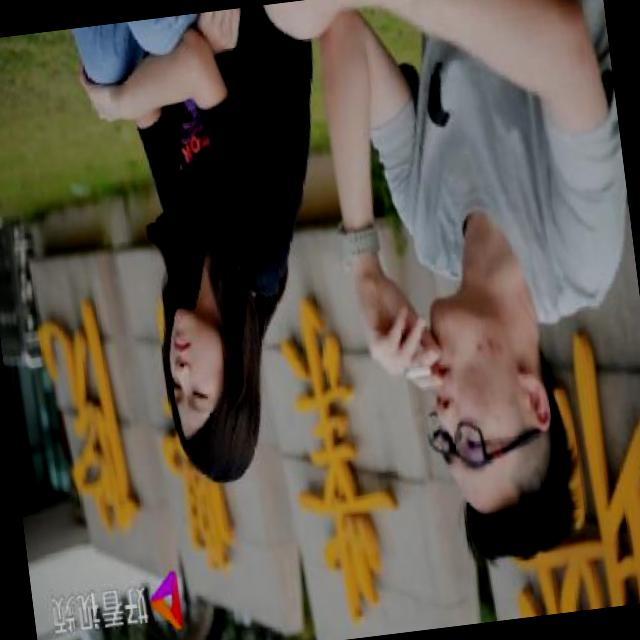smoke: (394, 352, 442, 391)
